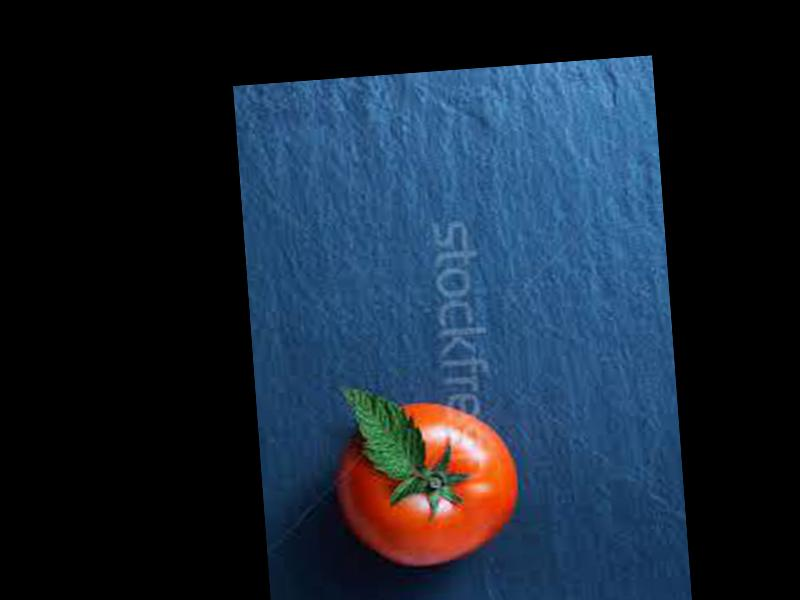Tomato: (334, 394, 522, 570)
